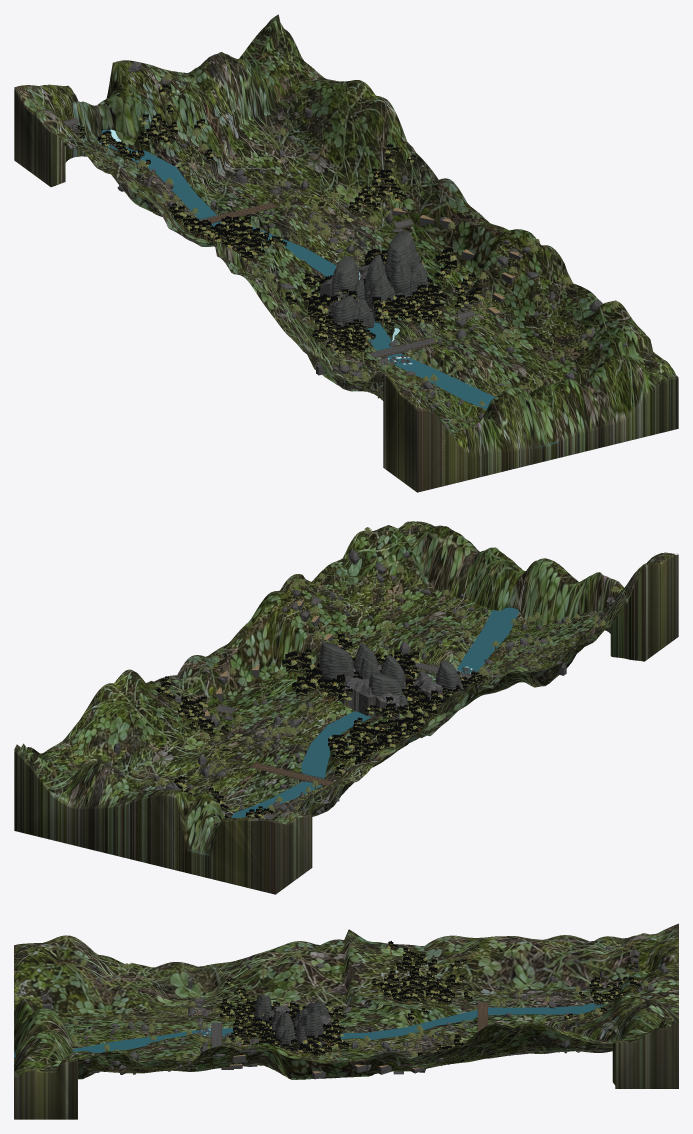
The model's file is world005.fbx.
3 renders of one model, top to bottom at view 1: azimuth 30°, elevation 25°; view 2: azimuth 150°, elevation 25°; view 3: azimuth 270°, elevation 25°, orthographic. The views are drawn at different scales.
Parts seen in each view (by area): view 1: Solid_BoundaryMountainSouth, Solid_BoundaryMountainNorth, Terrain_5_4, Terrain_5_1, Terrain_5_3, Surface_water_0, Terrain_4_4, Terrain_5_2, Terrain_3_1, Terrain_4_1, Terrain_5_0, Terrain_5_5 (+34 smaller); view 2: Solid_BoundaryMountainNorth, Solid_BoundaryMountainSouth, Terrain_5_2, Terrain_5_4, Terrain_5_1, Surface_water_0, Terrain_5_3, Terrain_4_4, Terrain_5_5, Terrain_5_0, Terrain_4_1, Terrain_4_3 (+28 smaller); view 3: Solid_BoundaryMountainSouth, Solid_BoundaryMountainNorth, Terrain_0_0, Terrain_0_4, Terrain_0_2, Terrain_0_1, Terrain_0_3, Terrain_0_5, Surface_water_0, Terrain_5_4, Terrain_5_2, Terrain_1_3 (+34 smaller).
Boxes of the visible parts, x1,y1,x2,y2 form: Solid_BoundaryMountainSouth: [383, 339, 678, 492]; Solid_BoundaryMountainNorth: [14, 30, 307, 186]; Terrain_5_4: [300, 80, 409, 191]; Terrain_5_1: [501, 245, 604, 352]; Terrain_5_3: [368, 145, 475, 254]; Surface_water_0: [96, 129, 558, 448]; Terrain_4_4: [259, 129, 362, 209]; Terrain_5_2: [435, 211, 540, 294]; Terrain_3_1: [413, 323, 524, 390]; Terrain_4_1: [461, 299, 567, 370]; Terrain_5_0: [568, 301, 678, 410]; Terrain_5_5: [239, 14, 337, 130]; Solid_BoundaryMountainNorth: [14, 750, 312, 894]; Solid_BoundaryMountainSouth: [401, 521, 678, 661]; Terrain_5_2: [215, 586, 325, 693]; Terrain_5_4: [82, 669, 191, 763]; Terrain_5_1: [283, 541, 392, 635]; Surface_water_0: [188, 607, 519, 854]; Terrain_5_3: [149, 651, 258, 732]; Terrain_4_4: [124, 732, 235, 783]; Terrain_5_5: [14, 715, 126, 799]; Terrain_5_0: [351, 521, 434, 596]; Terrain_4_1: [331, 597, 436, 656]; Terrain_4_3: [195, 692, 304, 747]; Solid_BoundaryMountainSouth: [14, 981, 77, 1119]; Solid_BoundaryMountainNorth: [609, 933, 678, 1088]; Terrain_0_0: [14, 935, 127, 1014]; Terrain_0_4: [456, 935, 570, 993]; Terrain_0_2: [234, 930, 349, 1003]; Terrain_0_1: [122, 961, 236, 1012]; Terrain_0_3: [343, 929, 458, 989]; Terrain_0_5: [565, 923, 678, 988]; Surface_water_0: [14, 1001, 608, 1057]; Terrain_5_4: [456, 1022, 570, 1062]; Terrain_5_2: [235, 1043, 348, 1079]; Terrain_1_3: [344, 979, 458, 1018].
Size of the model in its own units: 300 by 133 by 800.
